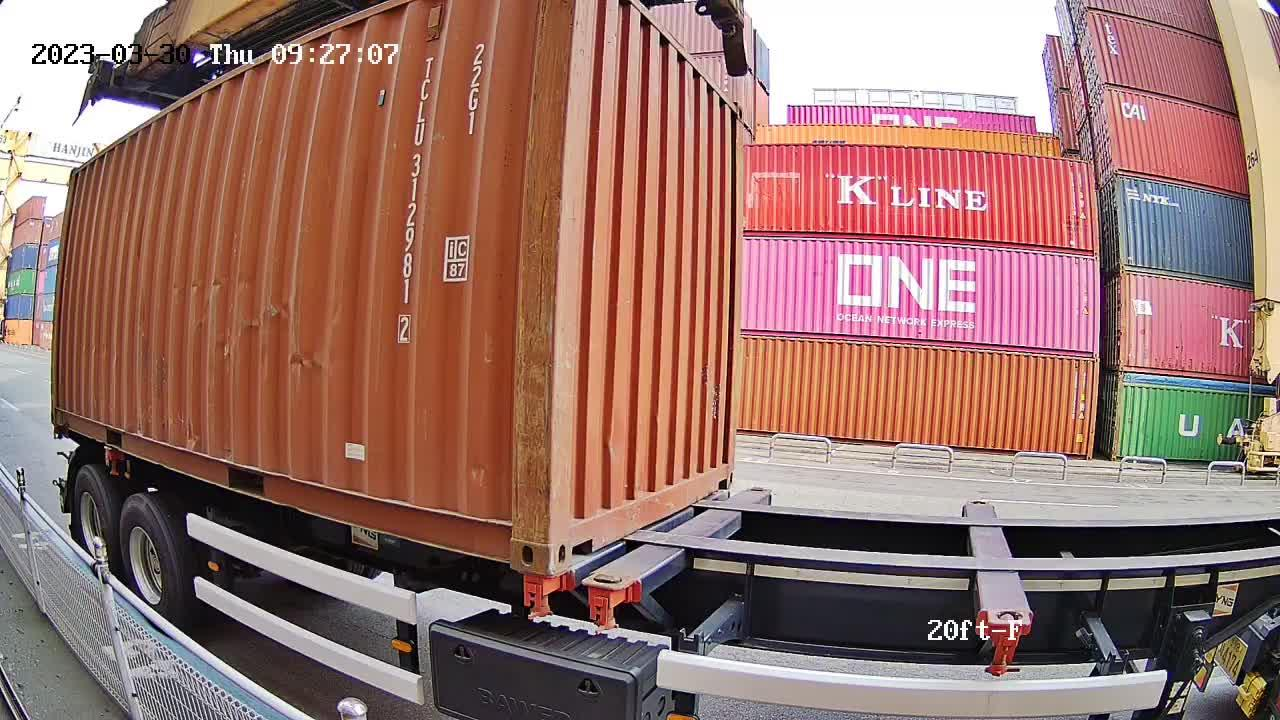Chassis: (582, 489, 770, 600)
Cone: (584, 575, 631, 628), (522, 573, 564, 621)
Hole_L: (550, 484, 604, 579)
Hole_R: (472, 489, 553, 579)
Tire: (115, 493, 181, 627), (72, 469, 116, 581)
